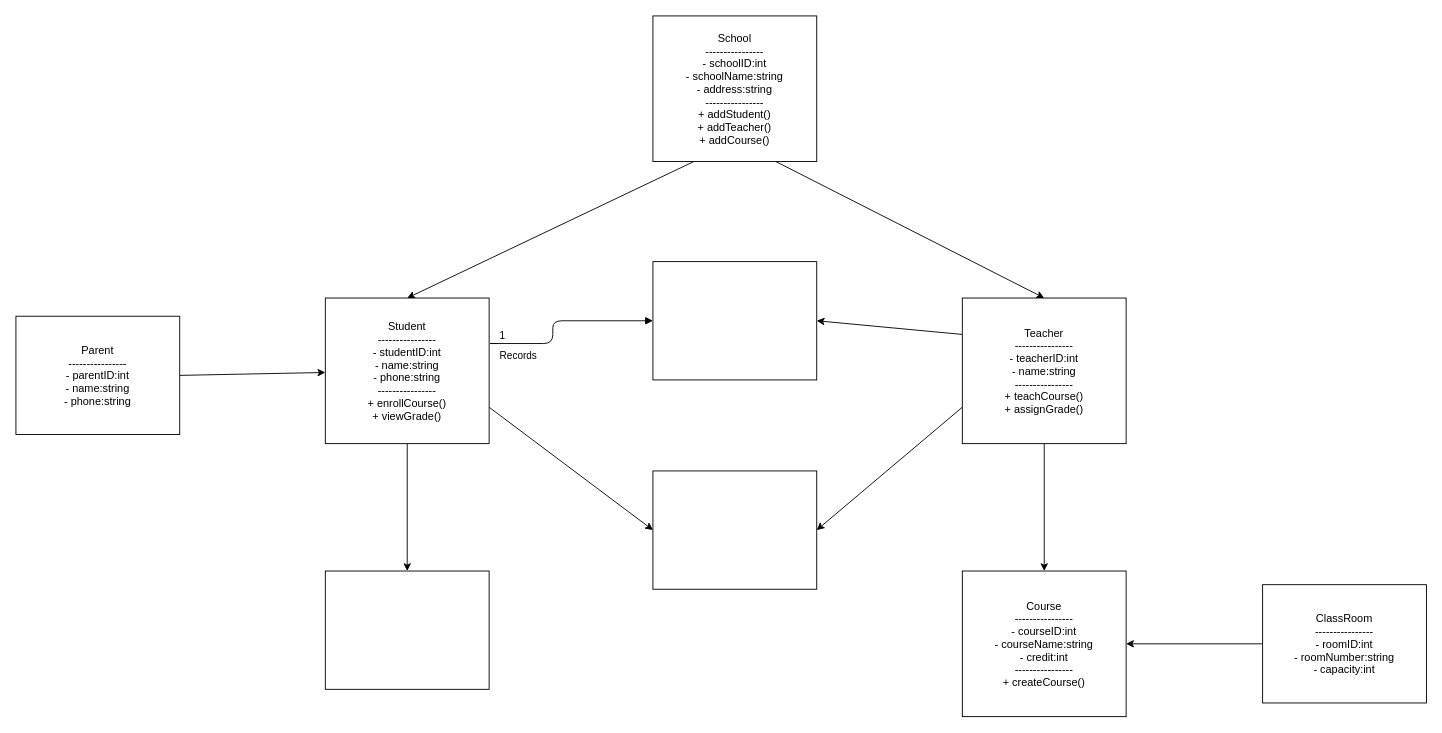
The diagram is 1442 pixels wide and 733 high, and some of its shapes have lost their labels. The centre of each missing label's shape, as x and y in pixels:
"Attendance ---------------- - attendanceID:int - date:date - status:string" belongs at (x=734, y=320).
"Enrollment ---------------- - enrollmentID:int - enrollDate:date - status:string" belongs at (x=406, y=629).
"Grade ---------------- - gradeID:int - score:double - letterGrade:string" belongs at (x=734, y=529).
